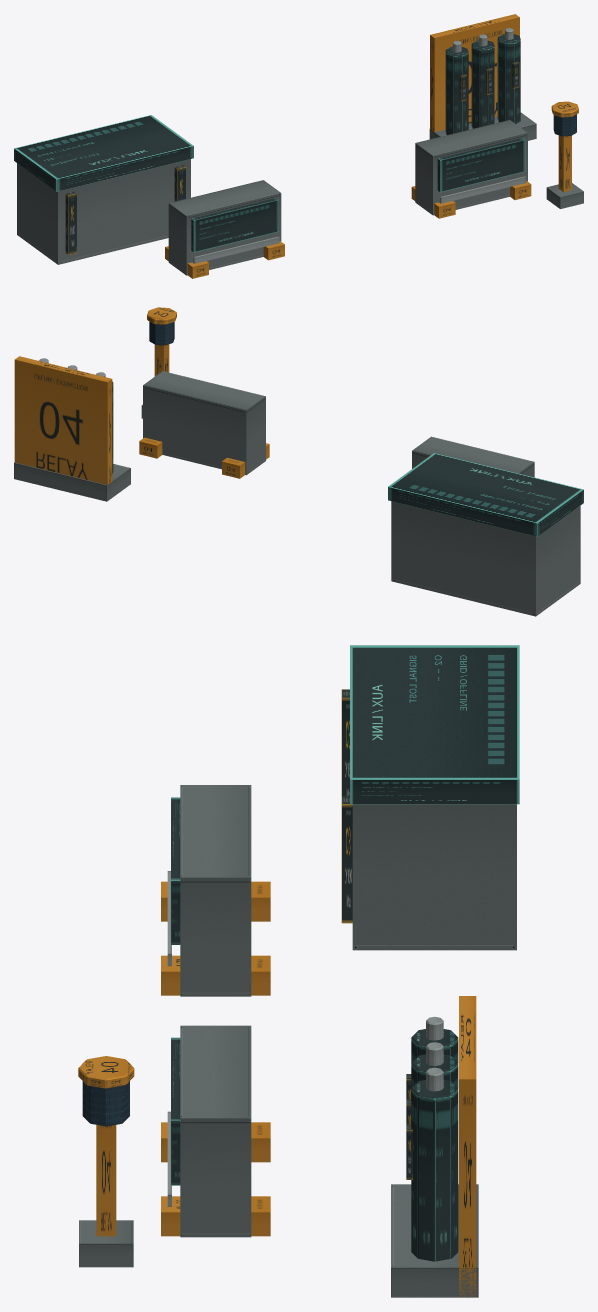
Rendered from CoverCheckpoint_LOD2.obj.
The picture shows the model from 3 angles, top to bottom: view 1: azimuth 30°, elevation 25°; view 2: azimuth 150°, elevation 25°; view 3: azimuth 270°, elevation 25°; orthographic projection. The views are drawn at different scales.
Visible parts, largest first — view 1: 002_cargo_container.002, 003_oxygen_rack.002, 000_barricade_2m.002, 001_barricade_2m.002, 004_warning_beacon.002; view 2: 002_cargo_container.002, 003_oxygen_rack.002, 001_barricade_2m.002, 000_barricade_2m.002, 004_warning_beacon.002; view 3: 002_cargo_container.002, 003_oxygen_rack.002, 001_barricade_2m.002, 000_barricade_2m.002, 004_warning_beacon.002.
Boxes of the visible parts, x1,y1,x2,y2 form: 002_cargo_container.002: (14,115,193,264); 003_oxygen_rack.002: (429,14,536,140); 000_barricade_2m.002: (165,180,284,278); 001_barricade_2m.002: (411,120,531,218); 004_warning_beacon.002: (546,101,583,208); 002_cargo_container.002: (388,453,583,616); 003_oxygen_rack.002: (14,356,130,501); 001_barricade_2m.002: (139,371,269,478); 000_barricade_2m.002: (412,436,534,477); 004_warning_beacon.002: (141,307,176,418); 002_cargo_container.002: (341,645,519,950); 003_oxygen_rack.002: (391,996,478,1297); 001_barricade_2m.002: (161,1025,270,1237); 000_barricade_2m.002: (161,785,270,996); 004_warning_beacon.002: (78,1056,134,1267).
Size of the model in its own units: 10.35 by 2.2 by 4.03.
1 material, 1 textured.
